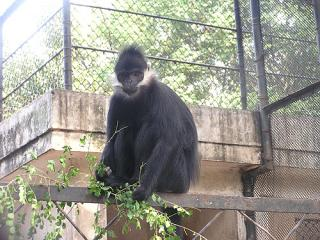monkey: (95, 40, 199, 218)
